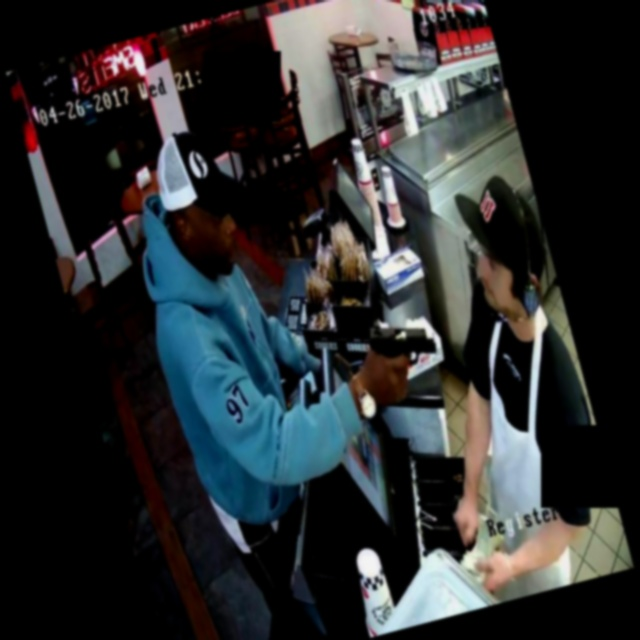gun: (343, 287, 450, 398)
